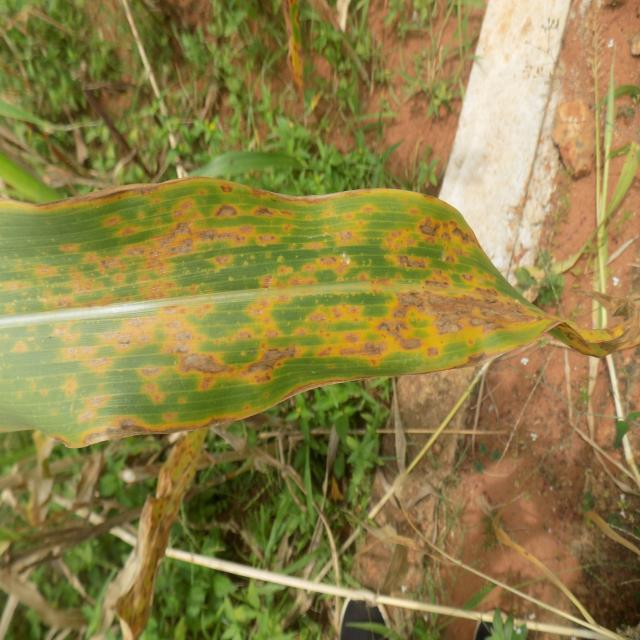millet_rust: (0, 178, 525, 432)
